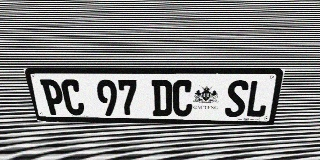7: (116, 80, 139, 116)
9: (96, 79, 119, 116)
C: (60, 79, 86, 115), (172, 80, 193, 117)
D: (151, 80, 172, 116)
L: (245, 80, 272, 117)
P: (40, 79, 66, 115)
S: (224, 80, 249, 117)
